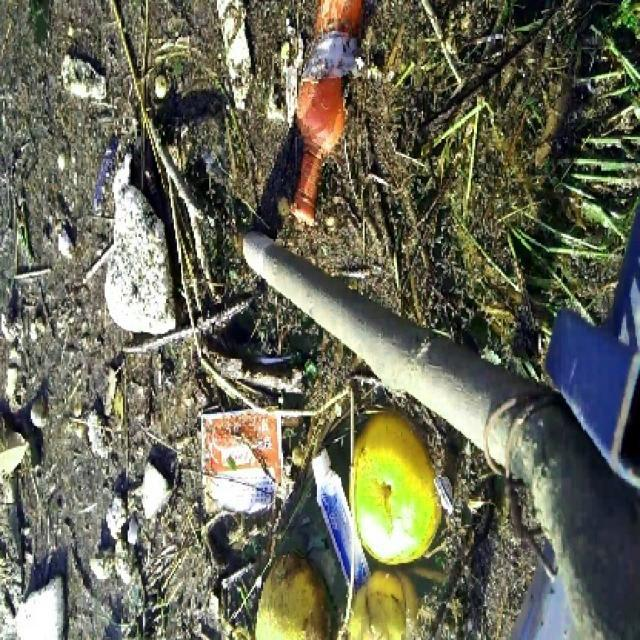Plastic: (282, 0, 369, 231)
Trash: (197, 405, 280, 520)
